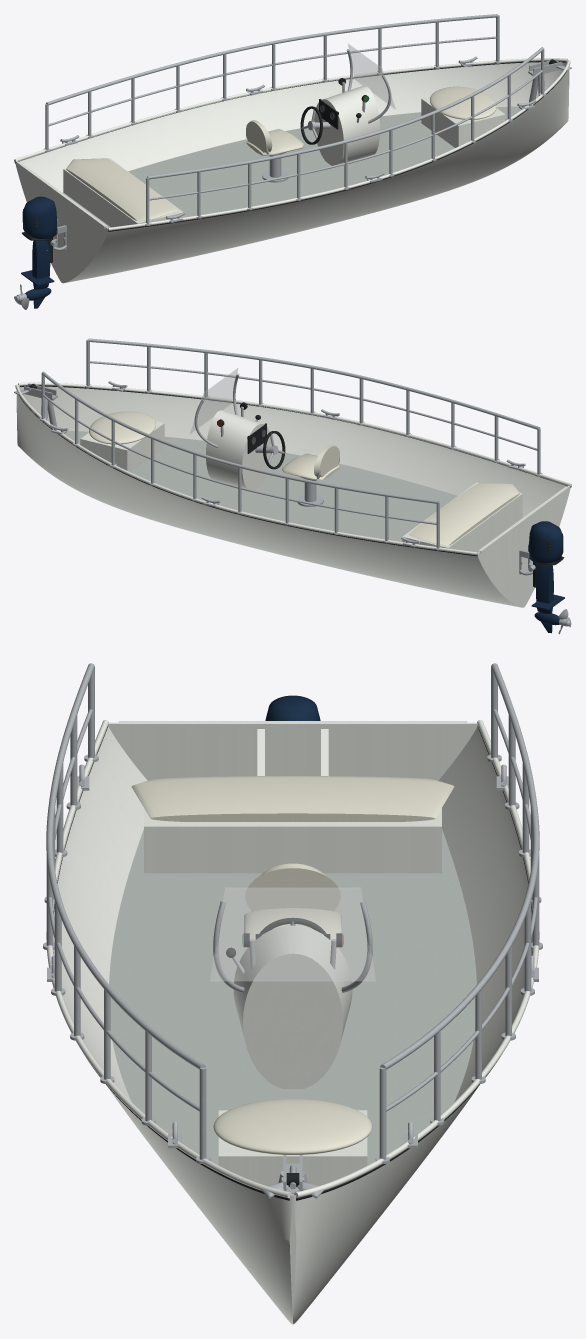
File: innerscene_motorboat_outboard.glb
3 views of the same model, one above another, from view 1: azimuth 30°, elevation 25°; view 2: azimuth 150°, elevation 25°; view 3: azimuth 270°, elevation 25° (orthographic). The views are drawn at different scales.
Parts seen in each view (by area): view 1: Finite lofted hull and transom, Seated continuous cockpit deck, Open cockpit helm shaped console body, Stern bench cushion, Peripheral rail 1 continuous handrail, Stern bench locker, Peripheral rail -1 continuous handrail, Finite rolled gunwale 1, Forward bow storage seat, Finite rolled gunwale -1, Forward padded seat, Stern outboard shaped closed powerhead cowling (+9 smaller); view 2: Finite lofted hull and transom, Seated continuous cockpit deck, Open cockpit helm shaped console body, Stern bench cushion, Peripheral rail -1 continuous handrail, Stern bench locker, Finite rolled gunwale -1, Peripheral rail 1 continuous handrail, Finite rolled gunwale 1, Forward bow storage seat, Forward padded seat, Stern outboard shaped closed powerhead cowling (+9 smaller); view 3: Finite lofted hull and transom, Seated continuous cockpit deck, Stern bench locker, Open cockpit helm shaped console body, Finite open console windscreen, Stern bench cushion, Forward padded seat, Forward bow storage seat, Helmsman finite padded back, Peripheral rail 1 continuous handrail, Peripheral rail -1 continuous handrail, Finite rolled gunwale 1 (+6 smaller).
Boxes of the visible parts, x1,y1,x2,y2 form: Finite lofted hull and transom: (15,60,569,283); Seated continuous cockpit deck: (62,106,521,227); Open cockpit helm shaped console body: (314,85,379,165); Stern bench cushion: (66,158,177,220); Peripheral rail 1 continuous handrail: (46,14,497,104); Stern bench locker: (63,158,183,227); Peripheral rail -1 continuous handrail: (147,47,543,179); Finite rolled gunwale 1: (14,58,567,161); Forward bow storage seat: (421,87,505,147); Finite rolled gunwale -1: (108,60,570,230); Forward padded seat: (430,86,496,119); Stern outboard shaped closed powerhead cowling: (22,196,57,239); Finite lofted hull and transom: (16,385,570,607); Seated continuous cockpit deck: (64,431,523,552); Open cockpit helm shaped console body: (206,410,271,490); Stern bench cushion: (408,482,519,545); Peripheral rail -1 continuous handrail: (88,338,539,429); Stern bench locker: (402,482,522,551); Finite rolled gunwale -1: (18,382,571,485); Peripheral rail 1 continuous handrail: (41,371,438,503); Finite rolled gunwale 1: (15,384,477,555); Forward bow storage seat: (80,412,164,472); Forward padded seat: (89,411,155,444); Stern outboard shaped closed powerhead cowling: (528,521,563,563); Finite lofted hull and transom: (53,722,532,1324); Seated continuous cockpit deck: (109,829,476,1165); Stern bench locker: (144,781,441,873); Open cockpit helm shaped console body: (233,925,352,1088); Finite open console windscreen: (210,888,375,980); Stern bench cushion: (131,776,454,821); Forward padded seat: (213,1099,372,1154); Forward bow storage seat: (218,1110,367,1185); Helmsman finite padded back: (245,863,340,911); Peripheral rail 1 continuous handrail: (380,663,539,1069); Peripheral rail -1 continuous handrail: (46,663,205,1069); Finite rolled gunwale 1: (294,720,539,1198).
Bounding box in the file's own units: 6.01 × 1.79 × 2.35.
Materials: 10 (10 with a texture image).
